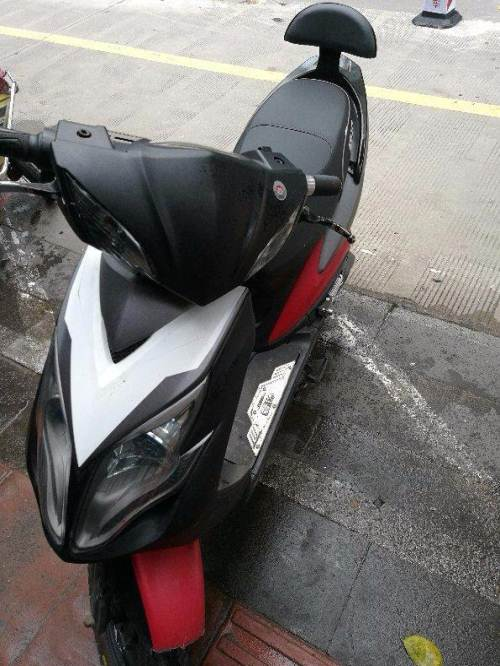电动车: (1, 6, 382, 666)
